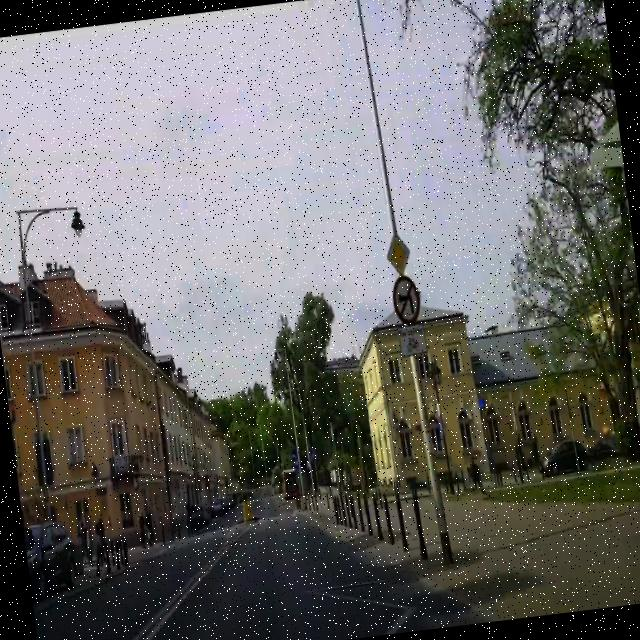Droga z pierwszenstwem: (383, 232, 412, 276)
